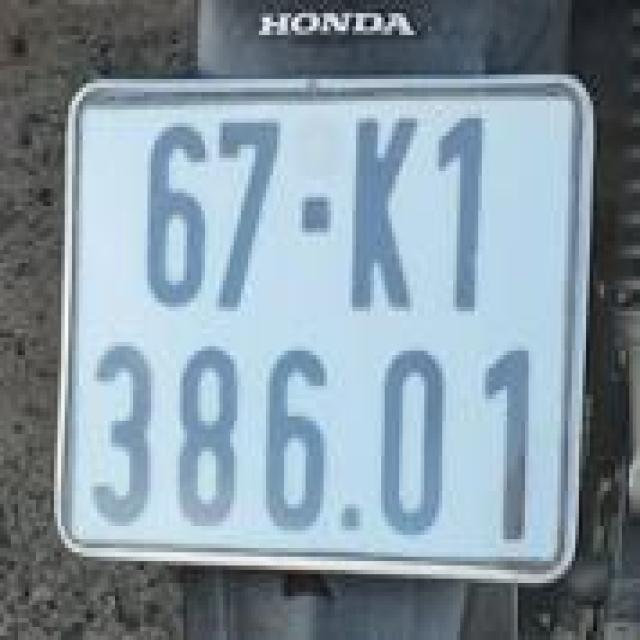0: (365, 338, 451, 552)
1: (468, 331, 532, 546), (428, 101, 485, 320)
3: (77, 331, 146, 533)
6: (119, 114, 205, 329), (248, 336, 334, 542)
7: (210, 108, 286, 326)
8: (166, 331, 244, 546)
K: (334, 105, 410, 311)
